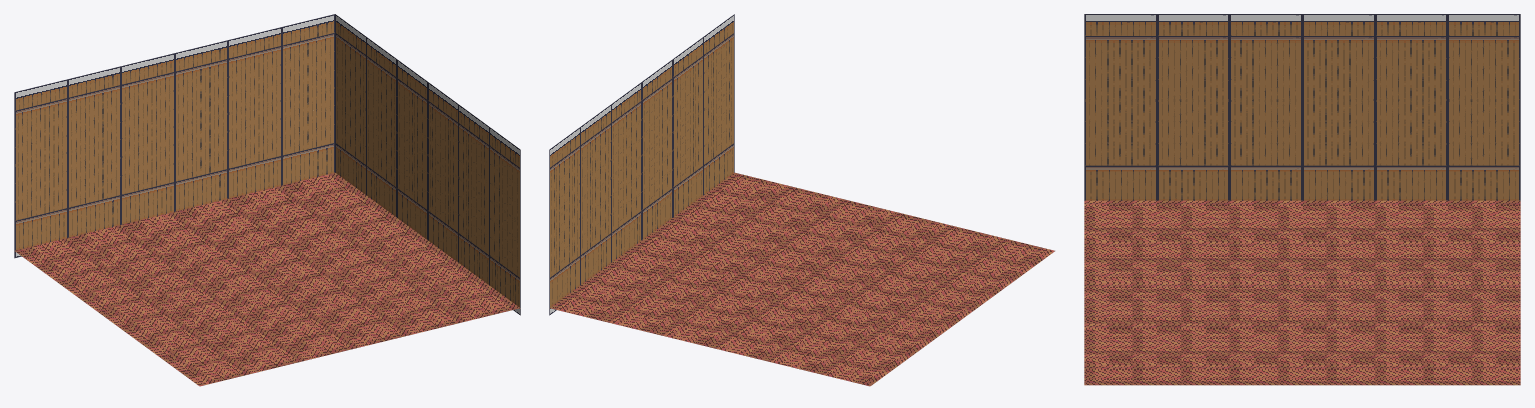
The model's file is RoomTiled.gltf.
3 renders of one model, left to right at view 1: azimuth 30°, elevation 25°; view 2: azimuth 150°, elevation 25°; view 3: azimuth 270°, elevation 25°, orthographic. The views are drawn at different scales.
Visible parts, largest first — view 1: Wall (×2), default; view 2: default, Wall; view 3: Wall, default.
Part boxes in pixels (box(x1,y1,x2,y2)): Wall (×2): box(14, 14, 520, 315); default: box(15, 172, 520, 386); default: box(549, 172, 1054, 386); Wall: box(549, 14, 734, 315); Wall: box(1084, 14, 1520, 200); default: box(1084, 200, 1520, 385).
Bounding box in the file's own units: 18 × 8.9 × 18.
Materials: 1 (1 with a texture image).
